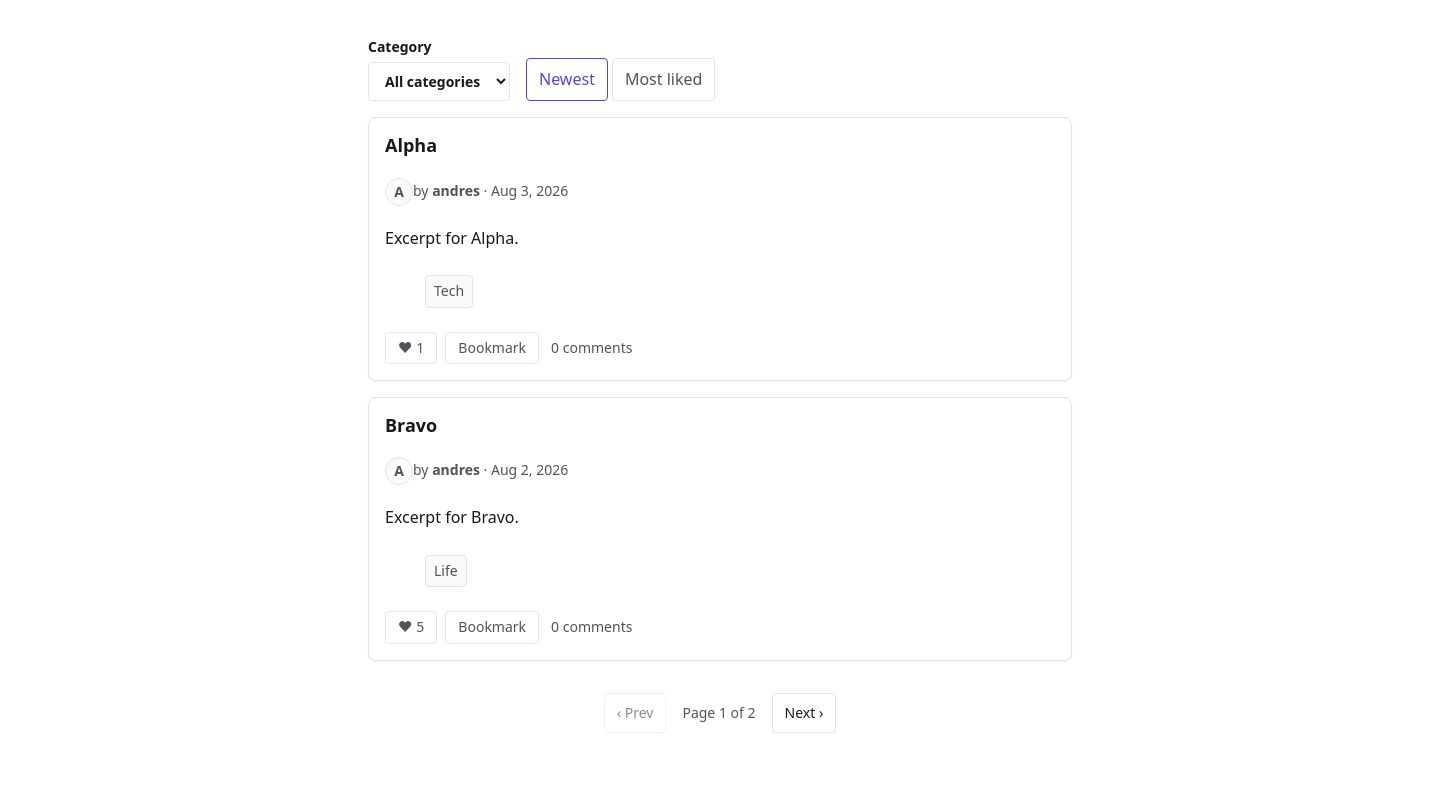
Explore › paginates with Prev/Next
(page scrolled)
Expected: the link "Alpha" is shown, [385,133,437,157]
Expected: the text "Page 1 of 2" is shown, [682,702,756,724]
Click the button "Next ›" at (804, 713), box [772,693,836,733]
(page scrolled)
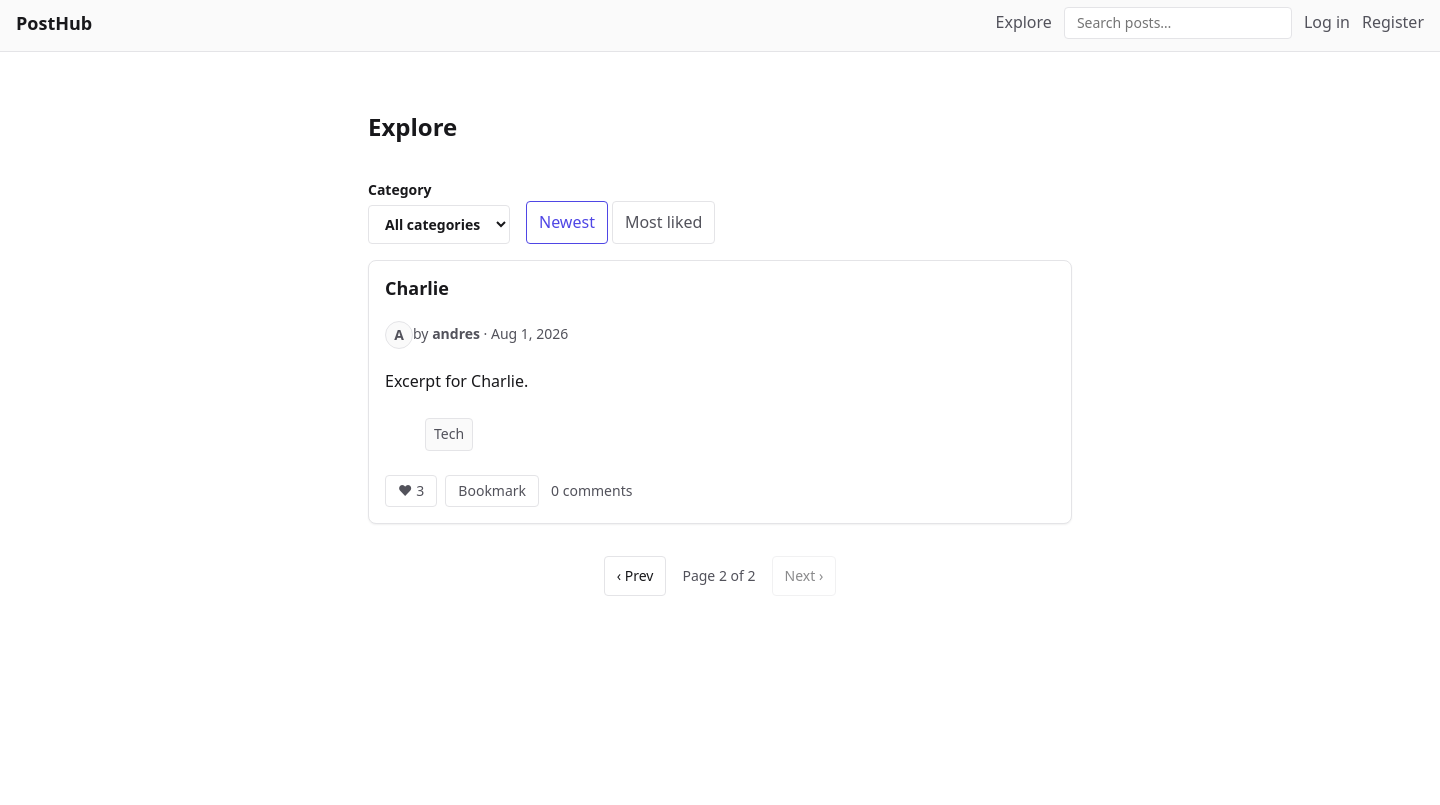
Expected: the link "Charlie" is shown, [385,276,449,300]
Expected: the link "Alpha" is gone
Expected: the text "Page 2 of 2" is shown, [682,565,756,587]
